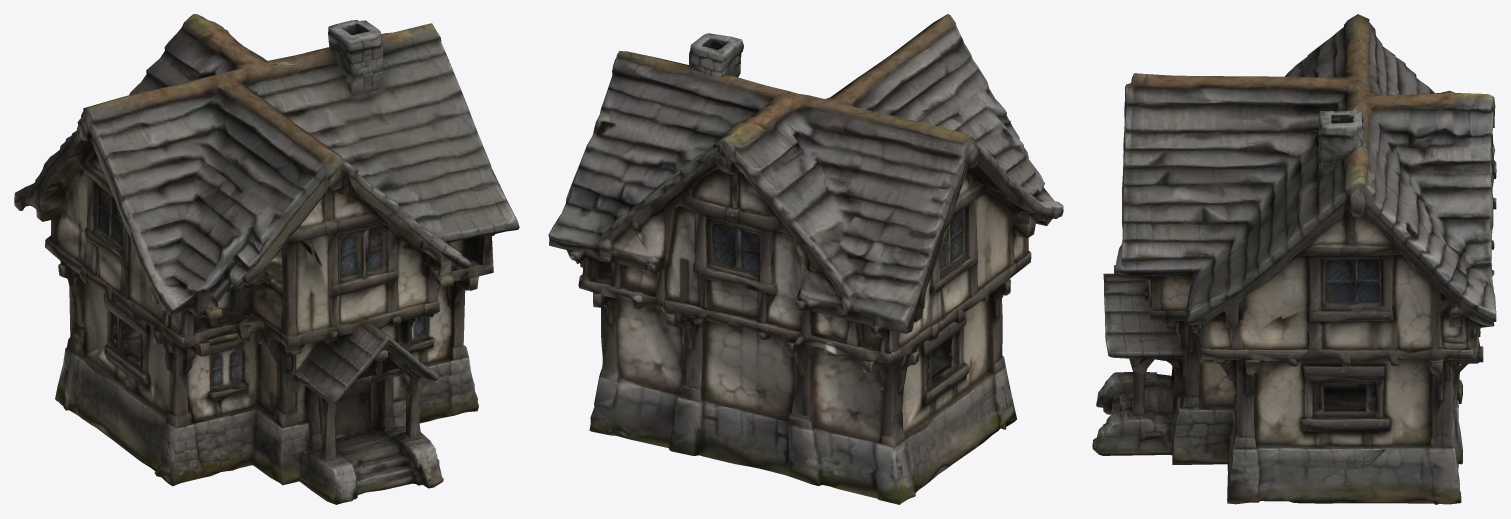
Rendered from hearthstone_cottage.glb.
3 renders of one model, left to right at view 1: azimuth 30°, elevation 25°; view 2: azimuth 150°, elevation 25°; view 3: azimuth 270°, elevation 25°, orthographic.
Bounding box in the file's own units: 2 × 1.92 × 1.97.
Materials: 1 (1 with a texture image).
